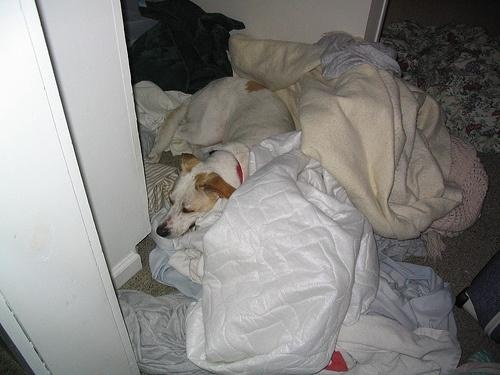dog: (148, 77, 298, 239)
